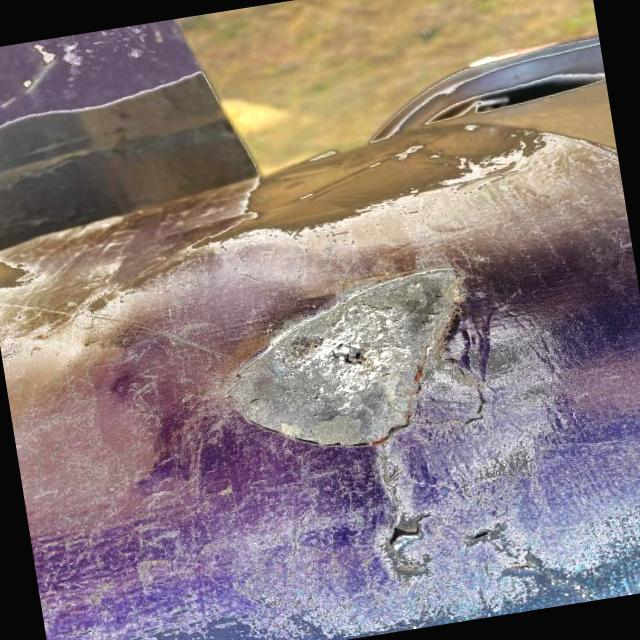crack: (370, 500, 448, 560), (463, 520, 510, 544)
dent: (201, 250, 521, 478)
